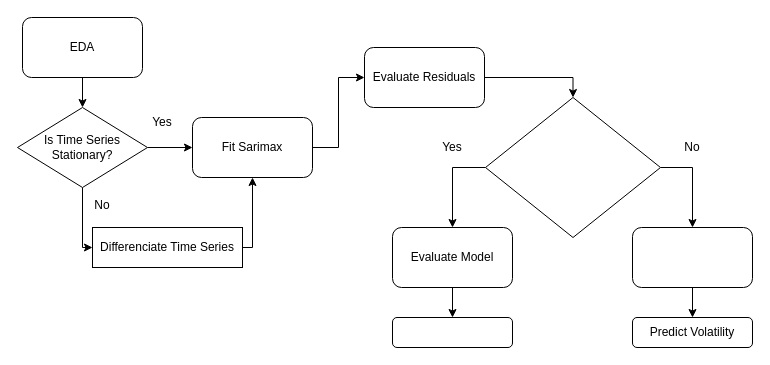
Some shapes in this 770 by 365 pixel diagram are drawn without their labels. Here are the shapes that lost their labels. From the top down, the centre of each, then its label:
[572,167]: Normally Distributed? Homoskedastic?
[692,257]: Fit Garch on Residuals
[452,332]: Forecast
